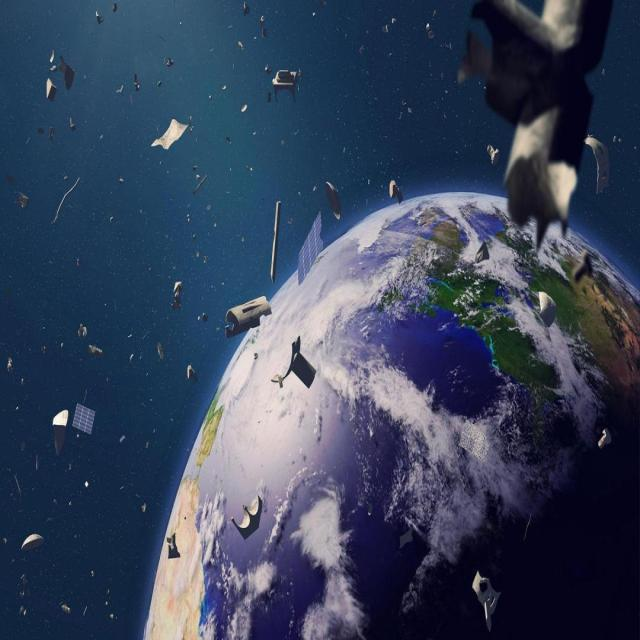large_debris: (454, 0, 615, 252), (268, 333, 318, 395), (469, 557, 505, 634), (582, 131, 616, 203), (224, 291, 274, 338), (296, 210, 320, 286), (146, 115, 195, 150), (264, 65, 304, 107), (52, 172, 83, 224), (458, 414, 490, 464), (73, 386, 97, 446), (230, 497, 263, 539), (268, 196, 282, 289), (323, 178, 342, 230), (50, 407, 70, 456), (536, 289, 558, 330), (572, 249, 594, 287), (44, 48, 57, 112), (17, 572, 32, 627), (385, 176, 408, 208), (596, 424, 615, 462), (100, 587, 117, 624), (189, 165, 208, 197), (11, 464, 23, 508), (59, 52, 72, 92), (521, 508, 536, 542), (129, 70, 146, 100), (308, 0, 329, 24), (21, 532, 43, 553), (473, 238, 488, 266), (166, 536, 181, 564), (484, 144, 500, 170), (172, 276, 182, 317), (16, 182, 30, 210), (39, 122, 56, 145), (397, 524, 413, 548), (423, 22, 438, 47), (68, 109, 81, 137), (382, 14, 398, 36), (74, 318, 88, 342), (399, 99, 412, 123), (258, 14, 270, 40), (138, 499, 154, 518), (88, 338, 101, 361), (186, 362, 197, 388), (113, 81, 127, 101), (32, 452, 43, 476), (182, 204, 194, 225), (62, 603, 74, 624), (153, 338, 163, 363), (8, 170, 18, 193), (196, 310, 209, 327), (163, 54, 175, 72), (16, 438, 28, 455), (195, 248, 206, 266), (364, 501, 374, 520), (118, 429, 128, 448), (6, 354, 14, 377), (95, 10, 102, 32), (127, 355, 144, 364), (88, 569, 98, 584), (0, 534, 9, 550), (597, 65, 607, 79), (239, 99, 248, 114), (116, 176, 128, 187), (74, 253, 82, 269), (110, 0, 119, 14), (241, 0, 250, 13), (613, 134, 622, 146), (39, 344, 47, 357), (253, 350, 259, 367), (83, 602, 88, 622), (81, 480, 90, 490), (246, 162, 253, 174)
